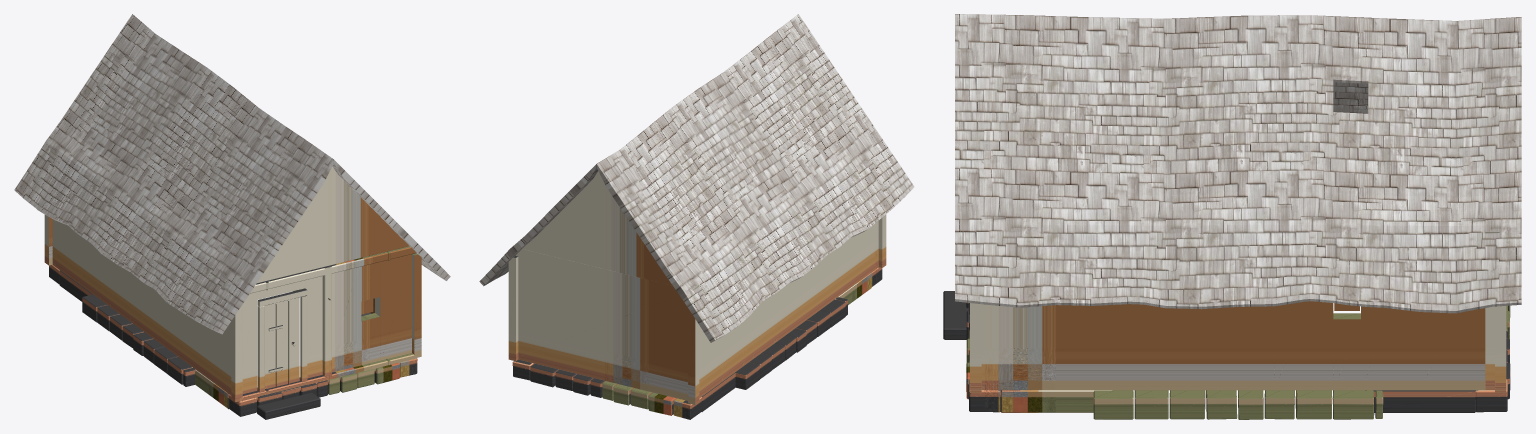
File: tier1_residence_retopo_v27.glb
The picture shows the model from 3 angles, left to right: view 1: azimuth 30°, elevation 25°; view 2: azimuth 150°, elevation 25°; view 3: azimuth 270°, elevation 25°; orthographic projection. The views are drawn at different scales.
Parts seen in each view (by area): view 1: T1_RoofSkin_Left, T1_Wall_Front_SquareHole, T1_Gable_Front, T1_Wall_Left_A, T1_Door_Front, T1_Wall_Front_Door, T1_Foundation_Left_Centre, T1_Wall_Left_SquareHole, T1_Foundation_Corner_Front_Left, T1_Front_WallPlate, T1_Foundation_Corner_Front_Right, T1_RoofSkin_Right (+8 smaller); view 2: T1_RoofSkin_Left, T1_Wall_Rear, T1_Gable_Rear, T1_Wall_Left_A, T1_Foundation_Left_Centre, T1_Wall_Left_SquareHole, T1_Foundation_Corner_Rear_Left, T1_Foundation_Corner_Rear_Right, T1_RoofSkin_Right, T1_Wall_Left_C, T1_Post_Rear_+2, T1_Post_Rear_-2 (+2 smaller); view 3: T1_RoofSkin_Right, T1_Wall_Right_A, T1_Wall_Right_SquareHole, T1_Foundation_Right_Centre, T1_Wall_Right_C, T1_Foundation_Corner_Rear_Right, T1_Foundation_Corner_Front_Right, T1_RoofSkin_Left, T1_Post_Front_+2, T1_Threshold_Steps, T1_Post_Rear_+2, T1_Wall_Front_SquareHole (+1 smaller).
Part boxes in pixels (x1,y1,x2,y2): T1_RoofSkin_Left: (14,14,333,334); T1_Wall_Front_SquareHole: (332,254,411,372); T1_Gable_Front: (257,166,408,283); T1_Wall_Left_A: (130,273,231,395); T1_Door_Front: (257,288,308,396); T1_Wall_Front_Door: (242,276,322,393); T1_Foundation_Left_Centre: (82,294,195,386); T1_Wall_Left_SquareHole: (79,235,130,321); T1_Foundation_Corner_Front_Left: (192,367,327,416); T1_Front_WallPlate: (250,246,416,293); T1_Foundation_Corner_Front_Right: (328,358,417,394); T1_RoofSkin_Right: (332,160,450,280); T1_RoofSkin_Left: (596,14,914,342); T1_Wall_Rear: (516,249,699,400); T1_Gable_Rear: (522,171,672,285); T1_Wall_Left_A: (774,223,876,343); T1_Foundation_Left_Centre: (735,297,847,389); T1_Wall_Left_SquareHole: (722,294,774,380); T1_Foundation_Corner_Rear_Left: (602,372,735,419); T1_Foundation_Corner_Rear_Right: (512,359,605,397); T1_RoofSkin_Right: (479,164,597,286); T1_Wall_Left_C: (699,325,722,398); T1_Post_Rear_+2: (508,255,518,361); T1_Post_Rear_-2: (688,308,699,404); T1_RoofSkin_Right: (955,14,1521,313); T1_Wall_Right_A: (991,304,1274,390); T1_Wall_Right_SquareHole: (1274,301,1419,390); T1_Foundation_Right_Centre: (1093,390,1383,419); T1_Wall_Right_C: (1420,308,1485,390); T1_Foundation_Corner_Rear_Right: (1365,331,1510,412); T1_Foundation_Corner_Front_Right: (966,331,1111,412); T1_RoofSkin_Left: (1333,82,1368,113); T1_Post_Front_+2: (970,303,981,392); T1_Threshold_Steps: (943,291,967,339); T1_Post_Rear_+2: (1495,306,1506,392); T1_Wall_Front_SquareHole: (981,304,991,390).
Size of the model in its own units: 5.32 by 5.14 by 7.96.
Materials: 8 (8 with a texture image).
